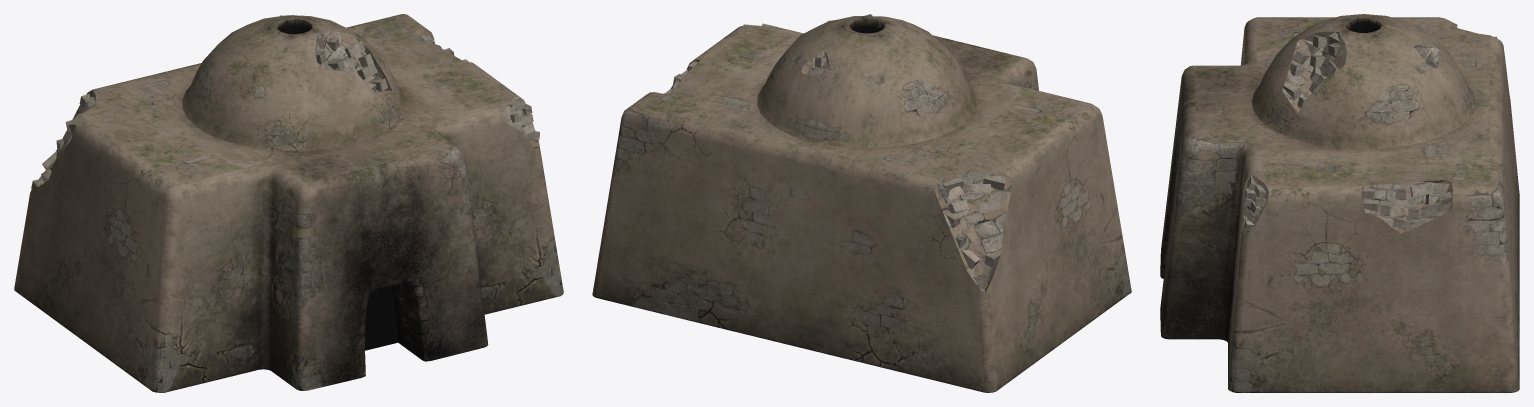
The model's file is Limestone_Burner_Destruction_Stage_1.fbx.
3 views of the same model, side by side, from view 1: azimuth 30°, elevation 25°; view 2: azimuth 150°, elevation 25°; view 3: azimuth 270°, elevation 25° (orthographic).
Parts seen in each view (by area): view 1: Limestone_Burner_Destruction_S1; view 2: Limestone_Burner_Destruction_S1; view 3: Limestone_Burner_Destruction_S1.
Part boxes in pixels (<box>): Limestone_Burner_Destruction_S1: <box>14,14,563,392</box>; Limestone_Burner_Destruction_S1: <box>592,14,1131,392</box>; Limestone_Burner_Destruction_S1: <box>1160,14,1519,392</box>.
Size of the model in its own units: 480 by 300 by 364.
